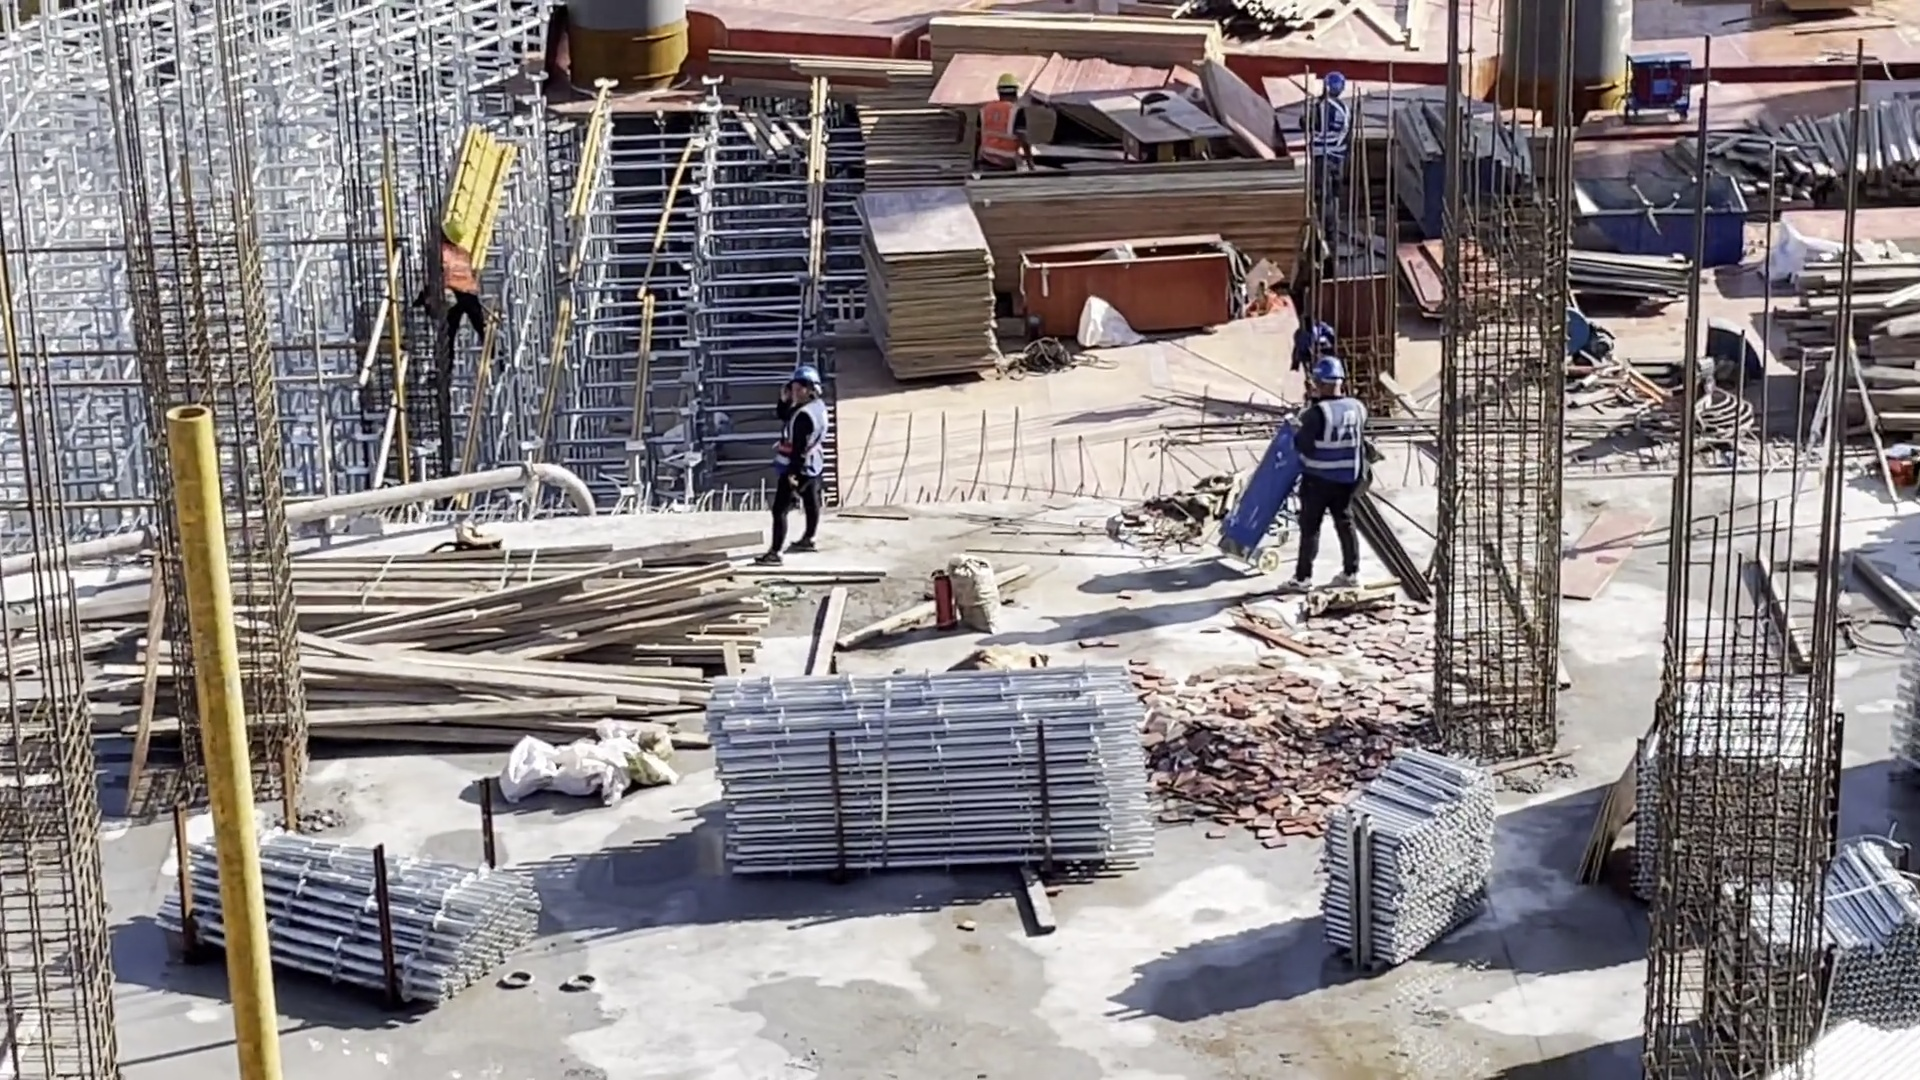board: (929, 48, 1267, 138), (854, 185, 1006, 384)
helmet: (1318, 356, 1344, 390), (792, 369, 820, 395), (440, 219, 469, 243), (1320, 75, 1344, 99), (996, 77, 1015, 99)
hopper: (1573, 175, 1746, 264)
person: (1301, 354, 1371, 591), (770, 368, 838, 572), (429, 216, 491, 352), (1303, 71, 1355, 222), (973, 75, 1029, 178)
scaffold: (1641, 672, 1920, 1062), (704, 660, 1158, 874), (155, 807, 544, 1013), (1320, 744, 1494, 968)
vest: (1310, 397, 1363, 483), (777, 402, 825, 477), (977, 102, 1024, 164), (1318, 102, 1351, 161), (440, 246, 477, 297)
wood: (133, 541, 772, 757), (978, 161, 1302, 286), (926, 7, 1221, 65)
